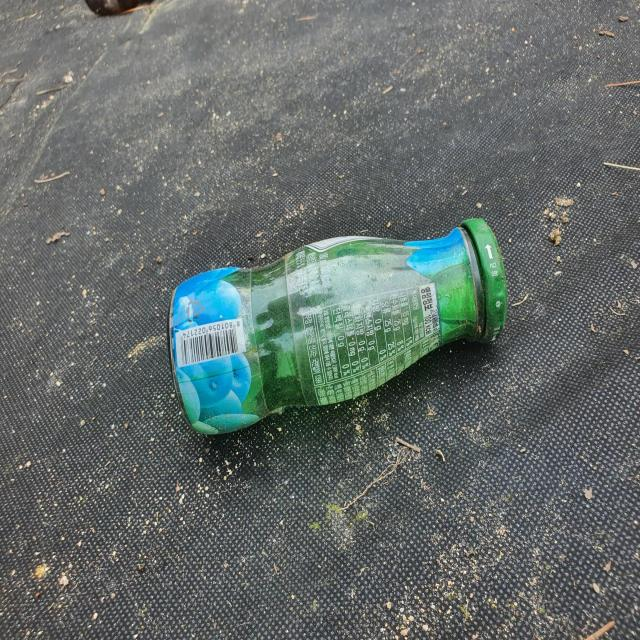glass: (167, 218, 508, 435)
